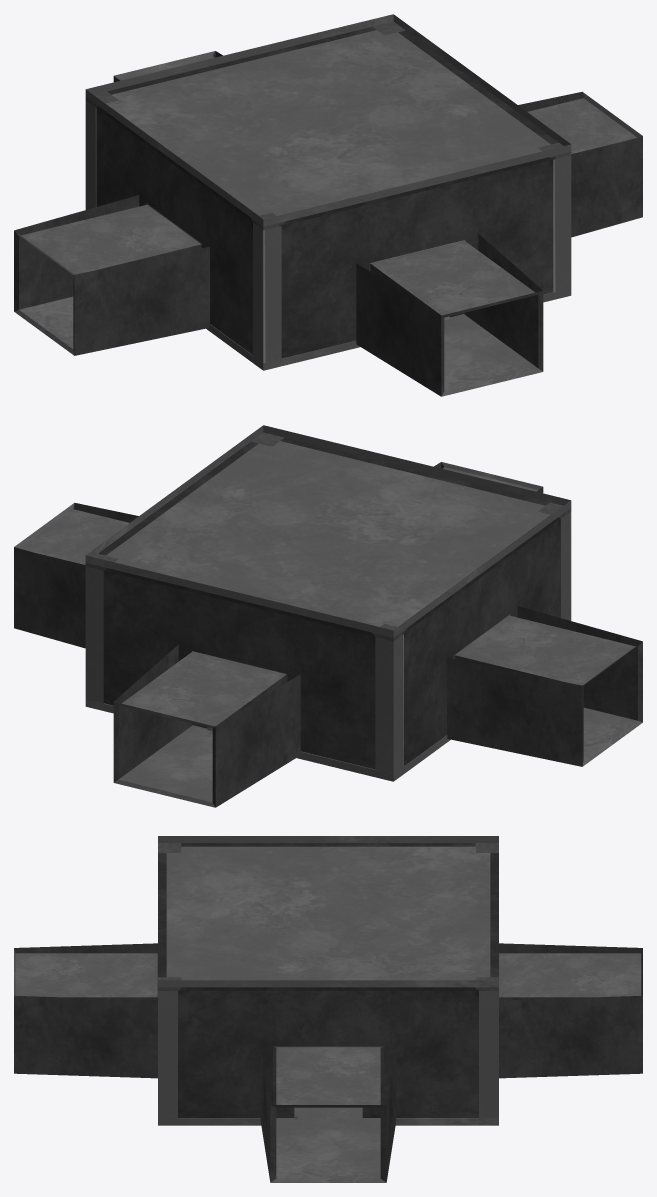
File: Room_Exit_4.fbx
3 renders of one model, top to bottom at view 1: azimuth 30°, elevation 25°; view 2: azimuth 150°, elevation 25°; view 3: azimuth 270°, elevation 25°, orthographic. The views are drawn at different scales.
Visible parts, largest first — view 1: Room_Exit_4_V5; view 2: Room_Exit_4_V5; view 3: Room_Exit_4_V5.
Part boxes in pixels (x1,y1,x2,y2): Room_Exit_4_V5: [14, 14, 642, 396]; Room_Exit_4_V5: [14, 425, 642, 807]; Room_Exit_4_V5: [14, 836, 642, 1182].
Bounding box in the file's own units: 80.56 × 20.5 × 80.43.
1 material, 1 textured.
